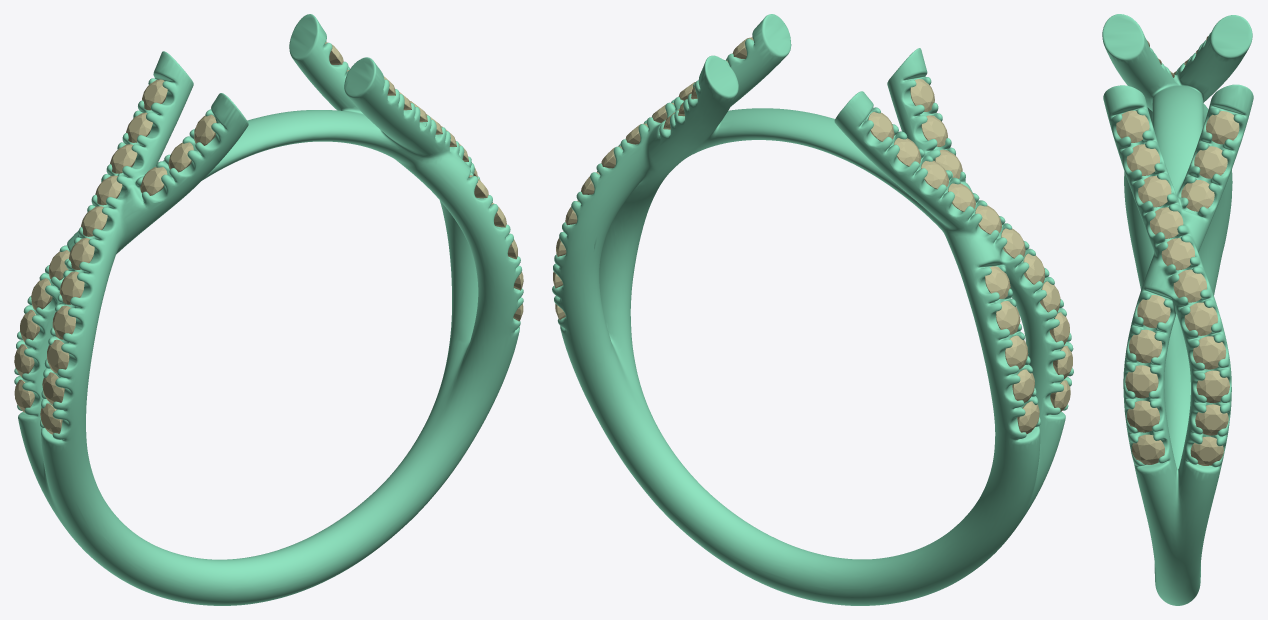
The picture shows the model from 3 angles, left to right: view 1: azimuth 30°, elevation 25°; view 2: azimuth 150°, elevation 25°; view 3: azimuth 270°, elevation 25°; orthographic projection. The views are drawn at different scales.
Visible parts, largest first — view 1: Metal02; view 2: Metal02; view 3: Metal02, Diamond_Gem.013, Diamond_Gem.017, Diamond_Gem.016, Diamond_Gem.018, Diamond_Gem.012, Diamond_Gem.004, Diamond_Gem.005, Diamond_Gem.003, Diamond_Gem.015, Diamond_Gem.002, Diamond_Gem.010 (+8 smaller).
Boxes of the visible parts, x1,y1,x2,y2 form: Metal02: [14, 14, 523, 605]; Metal02: [552, 14, 1073, 605]; Metal02: [1102, 14, 1253, 605]; Diamond_Gem.013: [1206, 111, 1239, 144]; Diamond_Gem.017: [1129, 329, 1162, 363]; Diamond_Gem.016: [1125, 365, 1158, 398]; Diamond_Gem.018: [1137, 295, 1170, 328]; Diamond_Gem.012: [1194, 146, 1227, 178]; Diamond_Gem.004: [1184, 302, 1217, 335]; Diamond_Gem.005: [1173, 269, 1206, 302]; Diamond_Gem.003: [1193, 336, 1226, 369]; Diamond_Gem.015: [1127, 400, 1159, 432]; Diamond_Gem.002: [1196, 370, 1229, 402]; Diamond_Gem.010: [1116, 110, 1149, 142].
Bounding box in the file's own units: 21.06 × 22.83 × 5.88.
